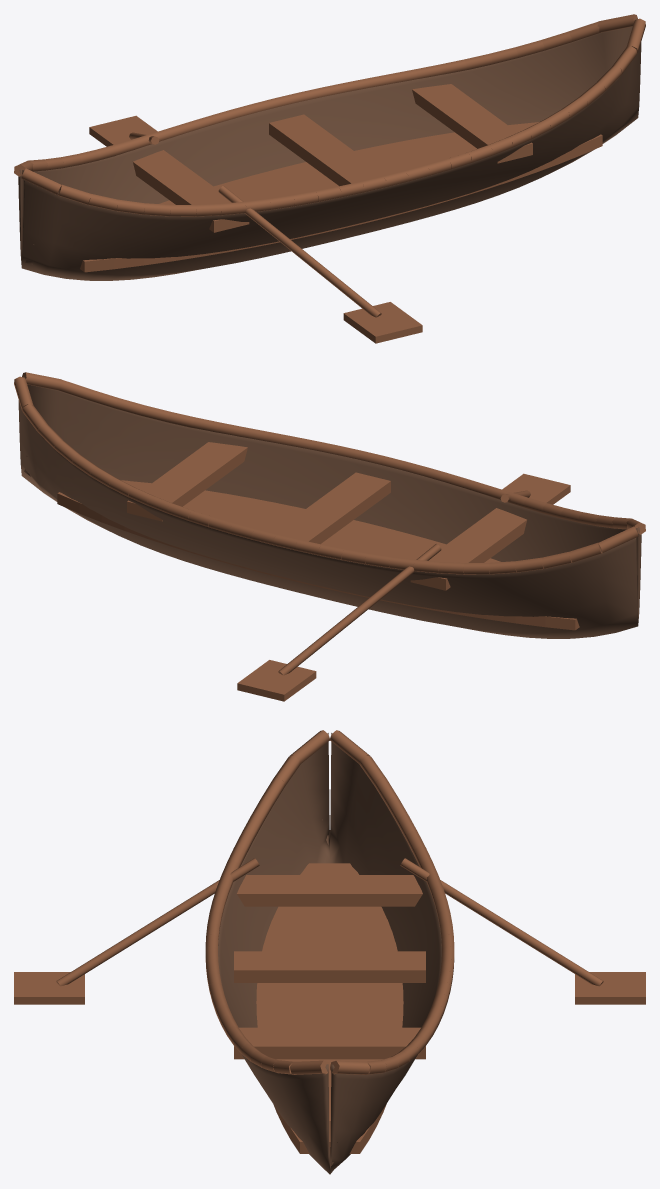
File: skiff-lod1.glb
3 renders of one model, top to bottom at view 1: azimuth 30°, elevation 25°; view 2: azimuth 150°, elevation 25°; view 3: azimuth 270°, elevation 25°, orthographic. The views are drawn at different scales.
Visible parts, largest first — view 1: skiff.hull, skiff.wood; view 2: skiff.hull, skiff.wood; view 3: skiff.wood, skiff.hull.
Boxes of the visible parts, box(x1,y1,x2,y2) form: skiff.hull: box(18, 18, 641, 280); skiff.wood: box(14, 14, 645, 343); skiff.hull: box(18, 376, 641, 638); skiff.wood: box(14, 372, 645, 701); skiff.wood: box(14, 730, 645, 1153); skiff.hull: box(218, 733, 441, 1174).
Size of the model in its own units: 4.26 by 0.9634 by 3.38.
